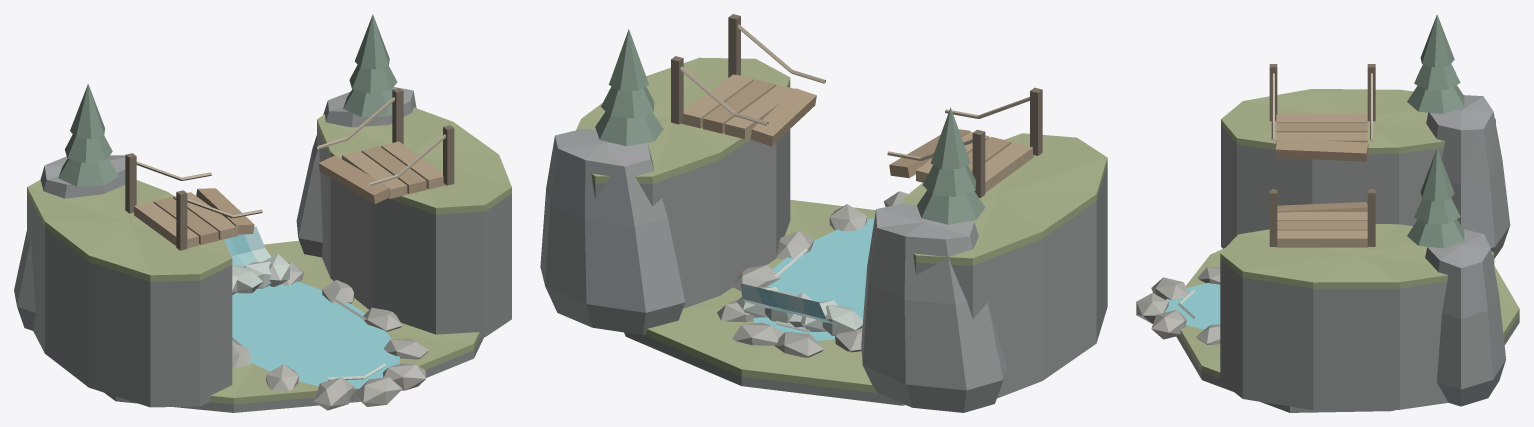
3 renders of one model, left to right at view 1: azimuth 30°, elevation 25°; view 2: azimuth 150°, elevation 25°; view 3: azimuth 270°, elevation 25°, orthographic. The views are drawn at different scales.
Parts seen in each view (by area): view 1: S06; view 2: S06; view 3: S06.
Part boxes in pixels (x1,y1,x2,y2): S06: (14, 14, 511, 412); S06: (540, 14, 1107, 412); S06: (1136, 14, 1519, 412).
Bounding box in the file's own units: 4.66 × 2.69 × 3.86.
